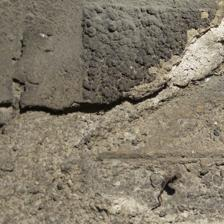Crack: (147, 23, 186, 92), (56, 90, 116, 134)
